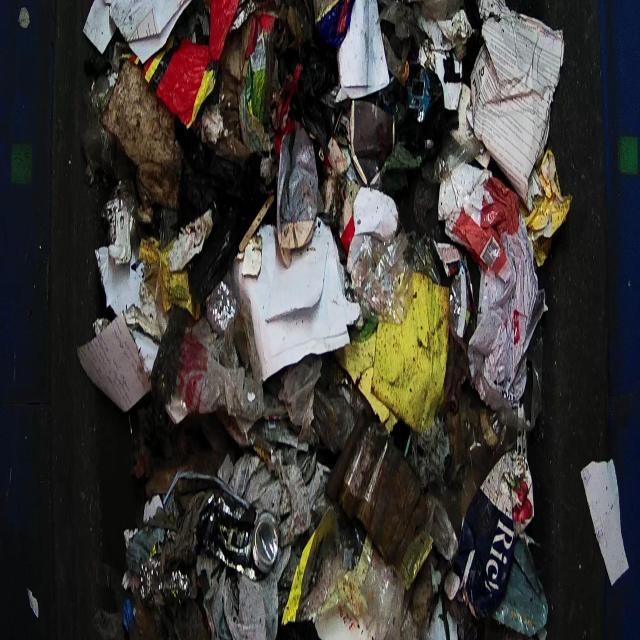other-trash: (76, 0, 570, 638)
